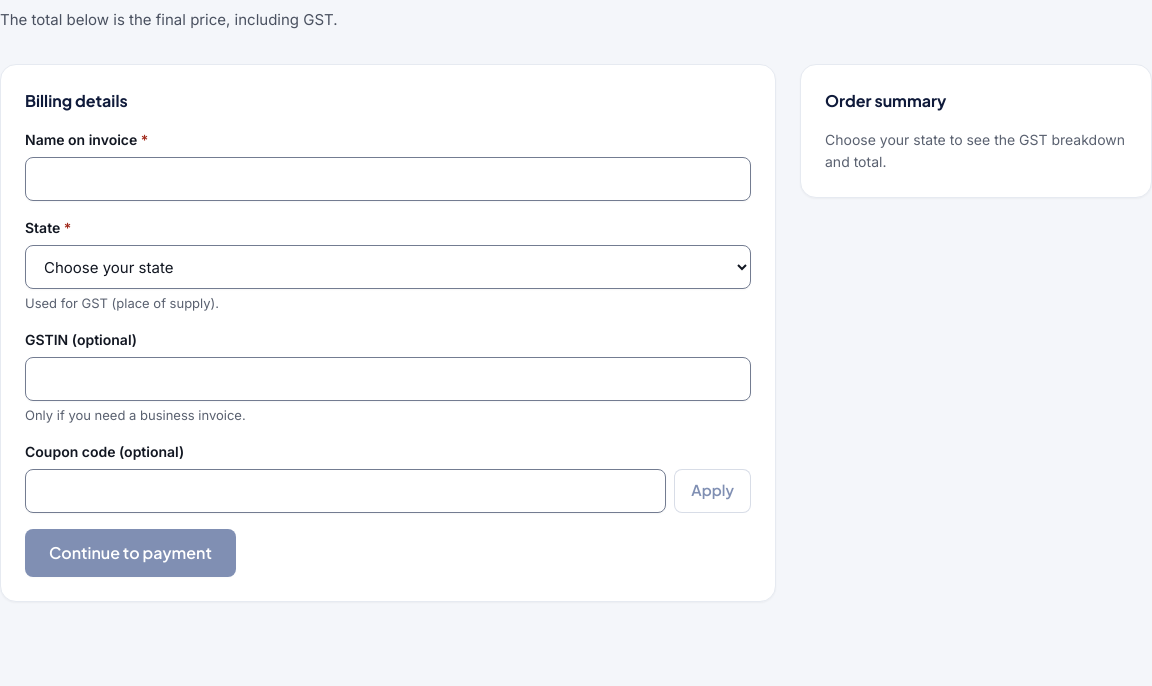
Missing purchase consent (E2E-04) › offers an inline toggle that grants the named consent and retries the order
Type "Ananya" into the field labelled "Name on invoice *". click: [388, 179]
box: [25,157,751,201]
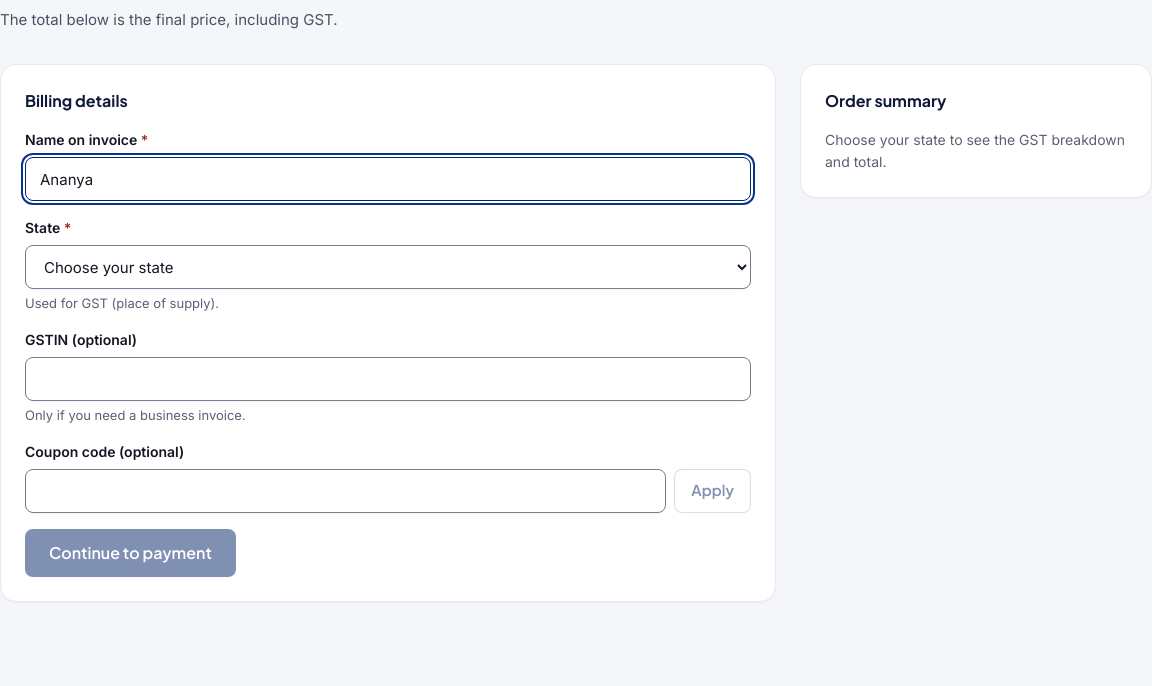
Select "Karnataka" in the dropdown labelled "State *". click: [388, 267]
box: [25,245,751,289]
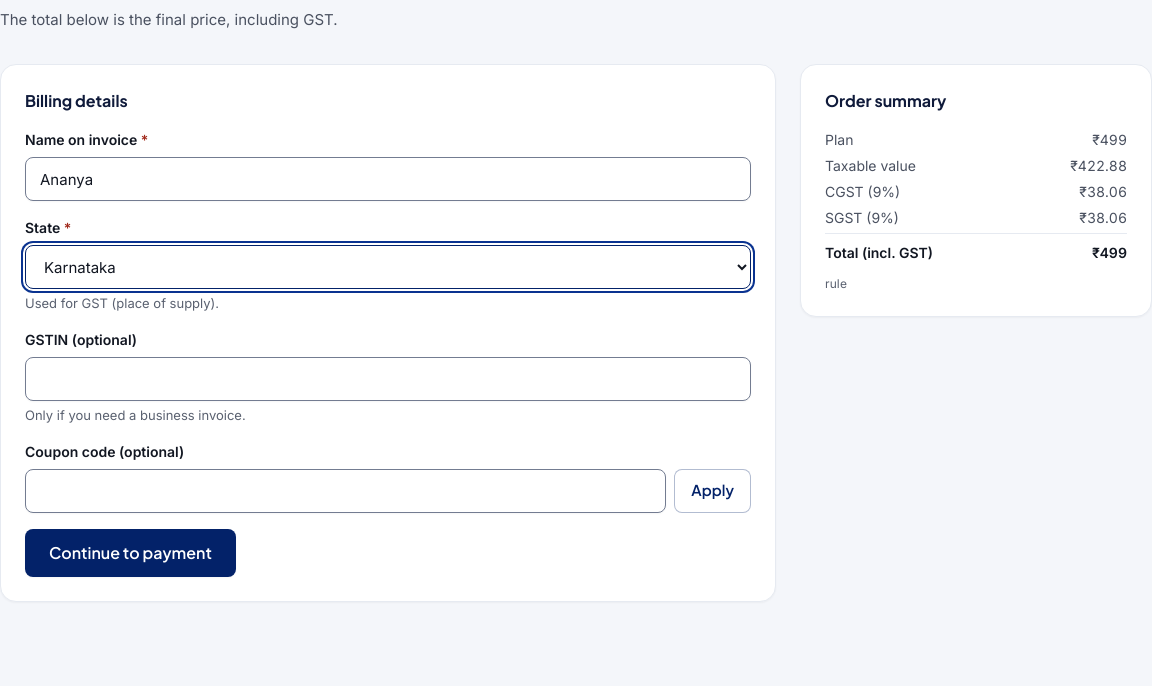
expect the text "CGST (9%)" is shown: met, box [825,181,900,203]
Click the button "Continue to payment". click: [130, 553]
box: [25,529,236,577]
(page scrolled)
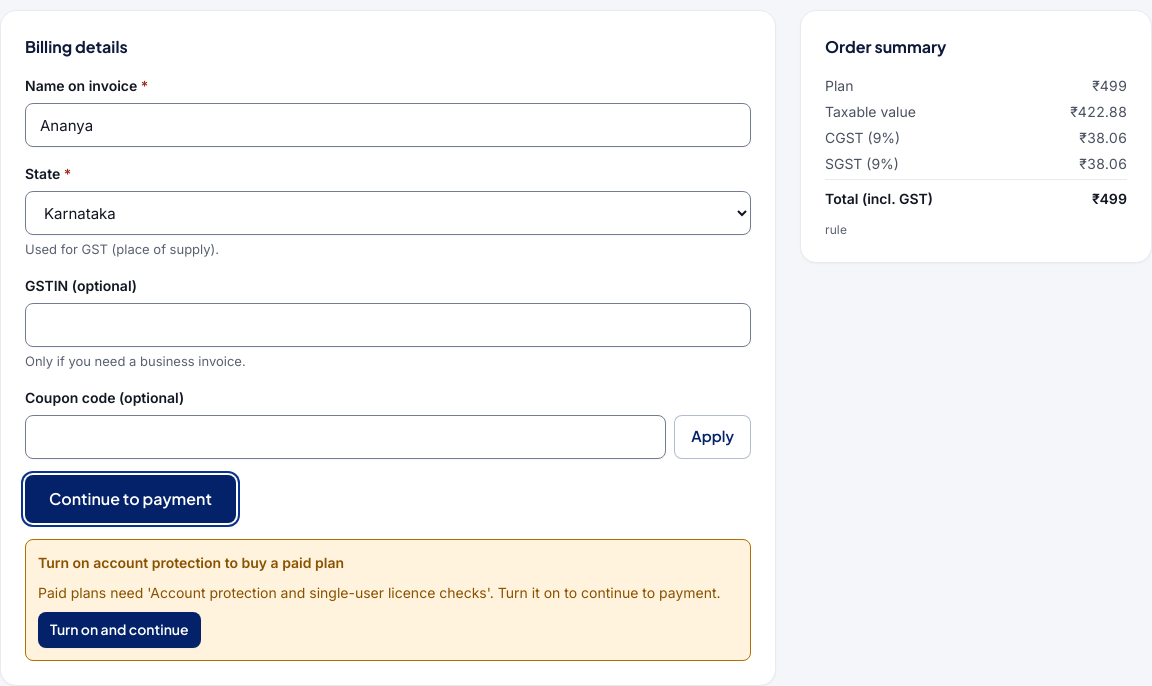
expect the text "Turn on account protection to buy a paid plan" is shown: met, box [38,554,344,571]
Click the button "Turn on and continue". click: [119, 630]
box: [38,612,201,648]
(page scrolled)
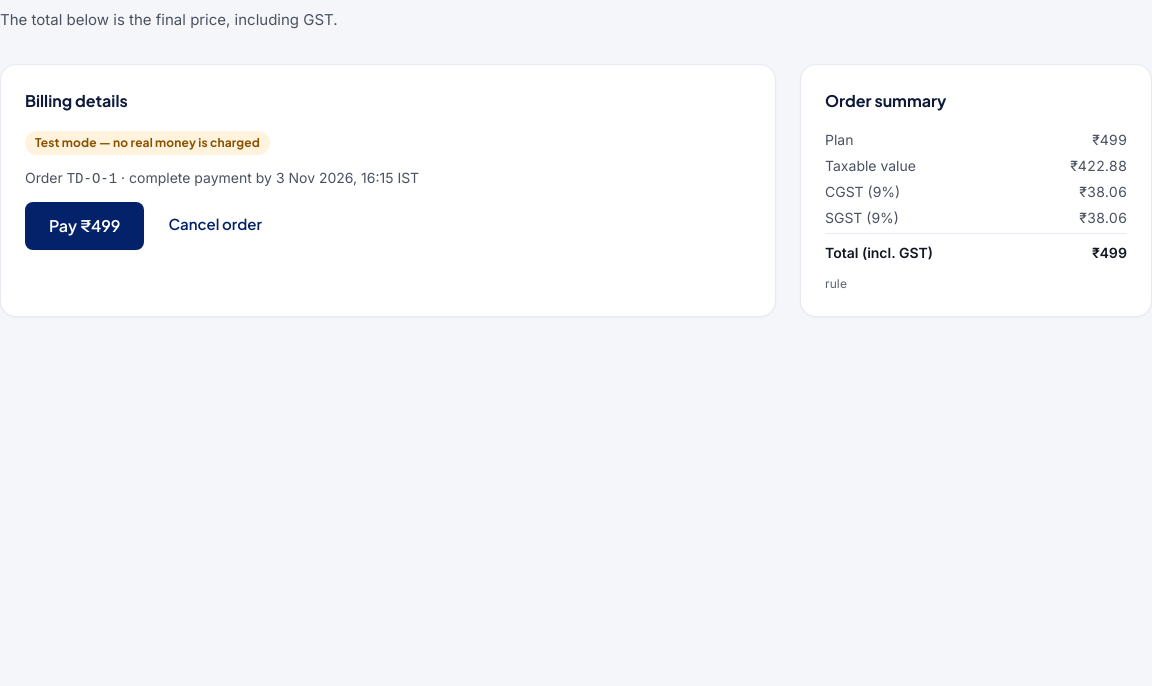
expect the button "Pay ₹499" is shown: met, box [25,202,144,250]
